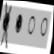correct: (14, 13, 23, 33)
not correct: (0, 0, 13, 50)
